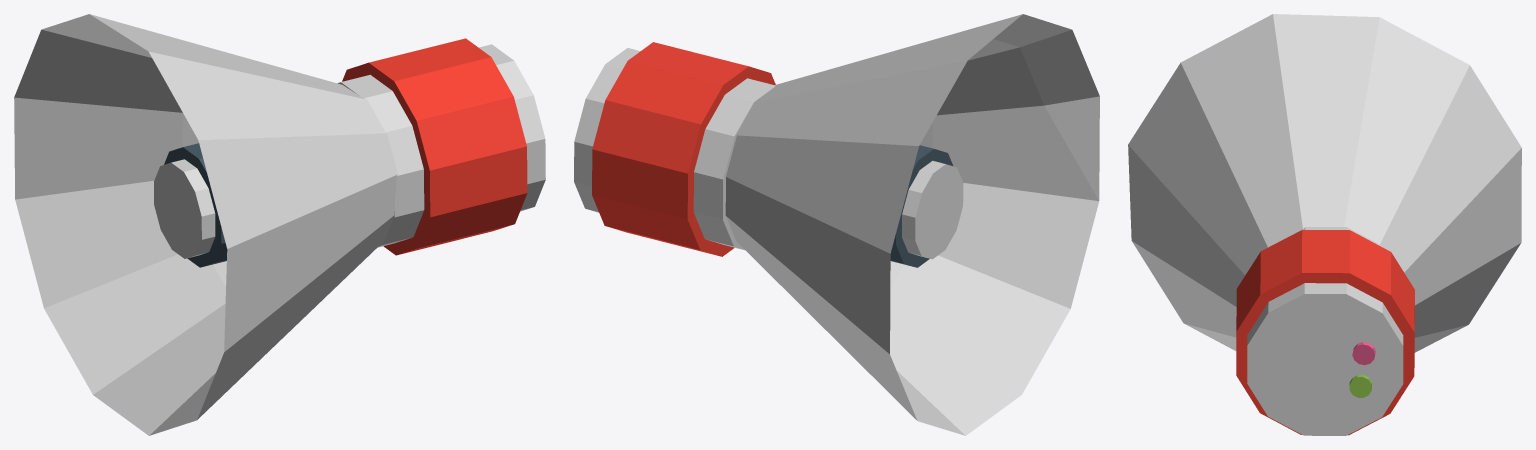
Rendered from megaphone.fbx.
3 renders of one model, left to right at view 1: azimuth 30°, elevation 25°; view 2: azimuth 150°, elevation 25°; view 3: azimuth 270°, elevation 25°, orthographic. The views are drawn at different scales.
Parts seen in each view (by area): view 1: group3790297, group785146625, group1862452726, group856757783, group1093518013; view 2: group3790297, group785146625, group1862452726, group856757783, group1093518013; view 3: group3790297, group1862452726, group785146625, group42298579, group1983249468.
Boxes of the visible parts, x1=… form: group3790297: x1=14, y1=14, x2=397, y2=435; group785146625: x1=342, y1=38, x2=527, y2=255; group1862452726: x1=337, y1=44, x2=545, y2=247; group856757783: x1=154, y1=159, x2=215, y2=258; group1093518013: x1=164, y1=143, x2=227, y2=267; group3790297: x1=725, y1=14, x2=1099, y2=435; group785146625: x1=592, y1=42, x2=775, y2=256; group1862452726: x1=574, y1=48, x2=775, y2=250; group856757783: x1=902, y1=160, x2=963, y2=259; group1093518013: x1=890, y1=145, x2=953, y2=267; group3790297: x1=1128, y1=14, x2=1521, y2=352; group1862452726: x1=1247, y1=227, x2=1403, y2=435; group785146625: x1=1236, y1=230, x2=1414, y2=435; group42298579: x1=1352, y1=342, x2=1375, y2=365; group1983249468: x1=1349, y1=375, x2=1371, y2=397.
Bounding box in the file's own units: 34.15 × 36.4 × 34.18.
